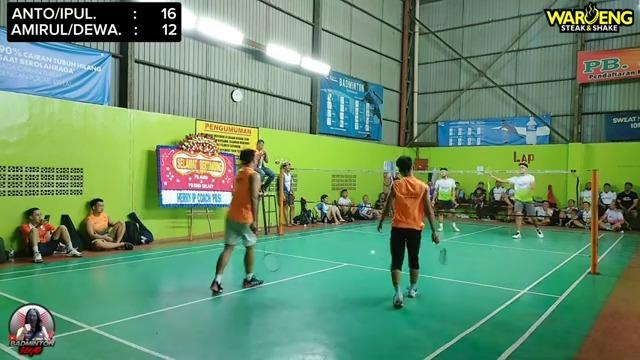Shuttlecock: (367, 247, 377, 257)
